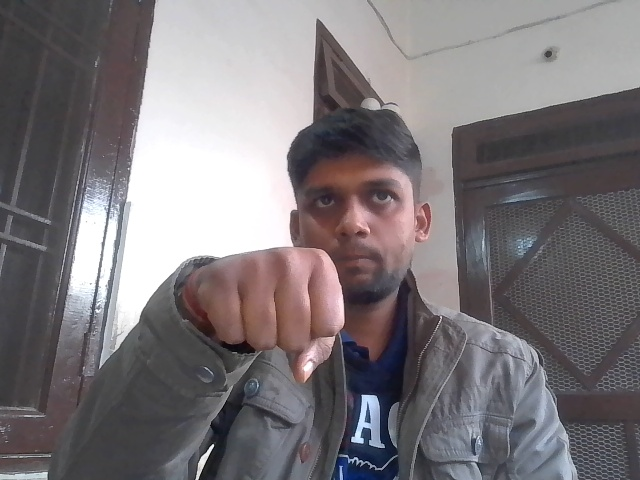Yes: (180, 223, 360, 384)
